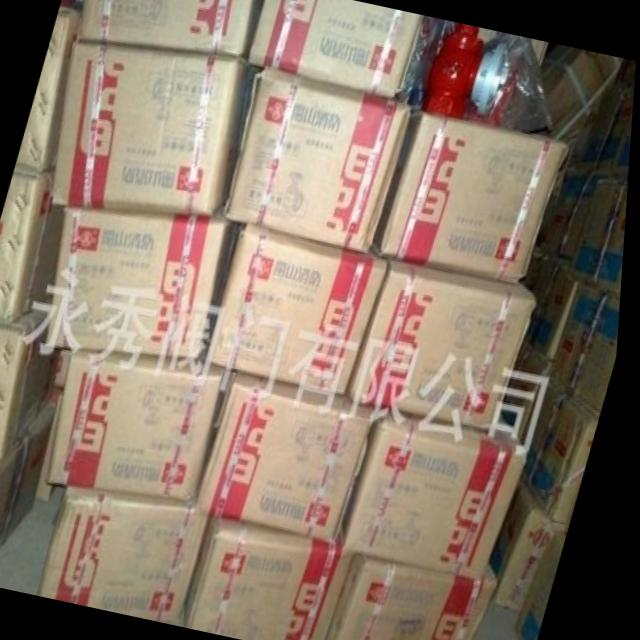box: (54, 41, 267, 216), (227, 68, 414, 253), (351, 259, 541, 432), (375, 111, 567, 281), (348, 407, 533, 579), (201, 371, 380, 546), (211, 225, 392, 396), (49, 202, 241, 360), (52, 349, 239, 500), (46, 486, 218, 621), (191, 509, 365, 640), (248, 0, 433, 98), (335, 553, 504, 640), (76, 0, 264, 61), (16, 5, 78, 172), (0, 302, 64, 462), (0, 169, 66, 323), (0, 396, 61, 552)
